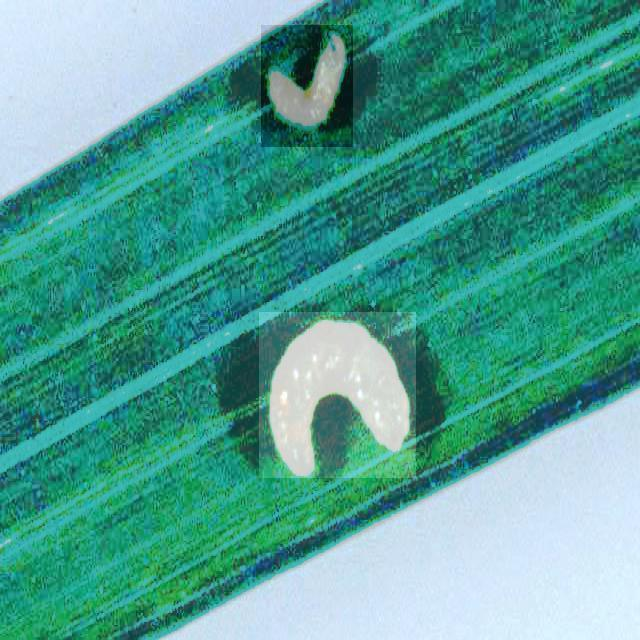whorl-maggot: (259, 312, 416, 478), (262, 25, 354, 147)
